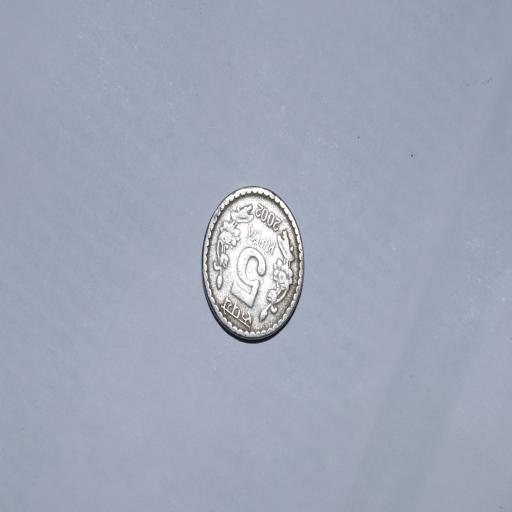rupee5: (199, 181, 309, 345)
